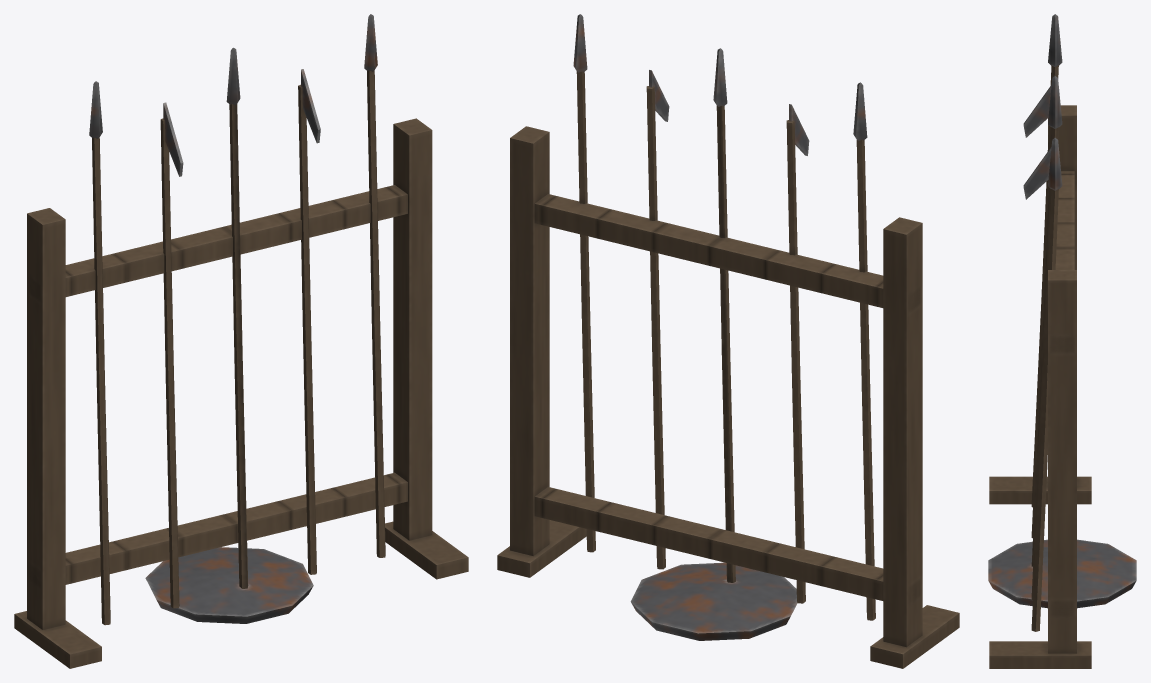
Rendered from ratelier.fbx.
The picture shows the model from 3 angles, left to right: view 1: azimuth 30°, elevation 25°; view 2: azimuth 150°, elevation 25°; view 3: azimuth 270°, elevation 25°; orthographic projection. The views are drawn at different scales.
Visible parts, largest first — view 1: ratelier; view 2: ratelier; view 3: ratelier.
Boxes of the visible parts, x1=… form: ratelier: x1=14, y1=14, x2=468, y2=668; ratelier: x1=497, y1=14, x2=959, y2=668; ratelier: x1=988, y1=14, x2=1136, y2=668.
Bounding box in the file's own units: 1.74 × 2.28 × 0.6087.
Materials: 1 (1 with a texture image).
